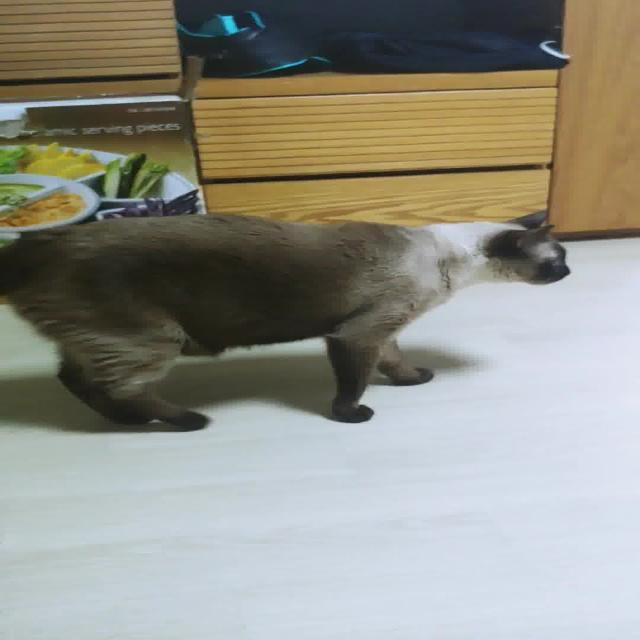cat: (0, 183, 582, 442)
